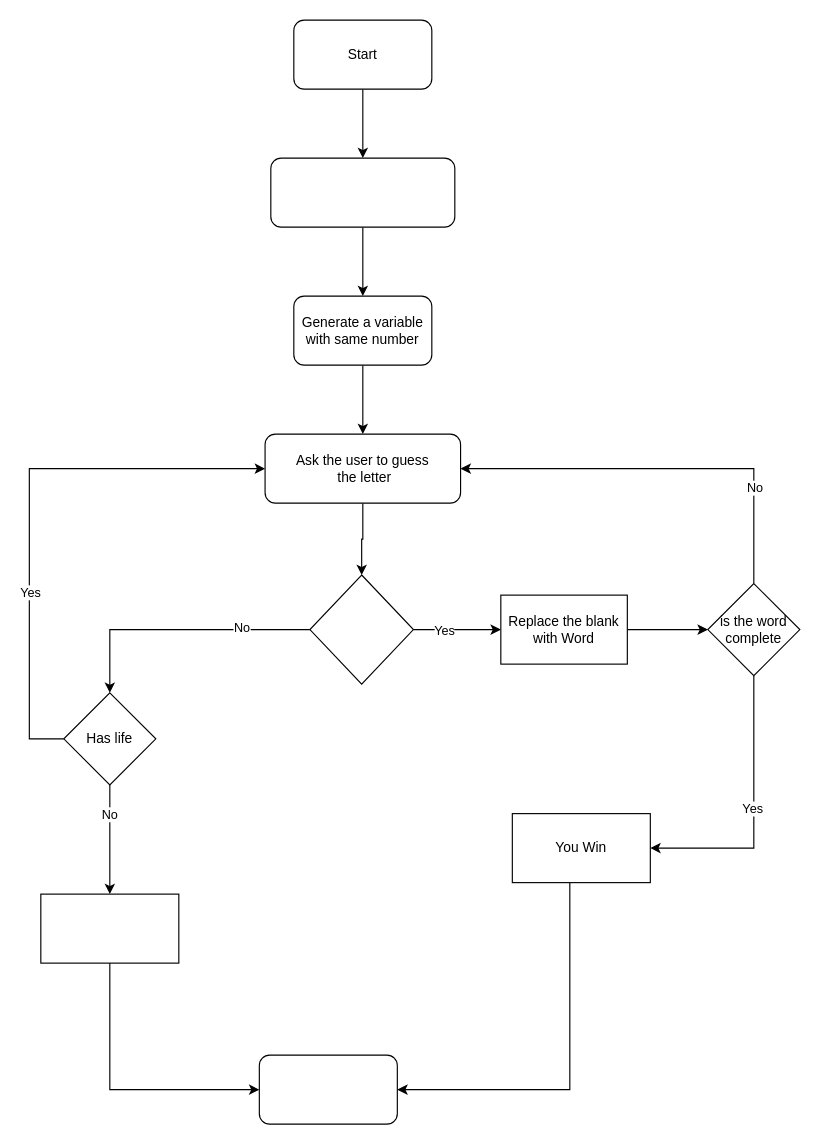
The diagram is 820 pixels wide and 1144 high, and some of its shapes have lost their labels. The shapes that lost their labels are listed below. From the top down, each one's centre as x and y in pixels, then its label:
(x=362, y=192): Generate a Random Word
(x=361, y=629): Is the guessed letter right
(x=109, y=928): You lose. the word was ""
(x=327, y=1089): End
